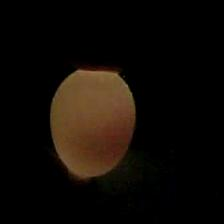infertile: (47, 67, 137, 179)
